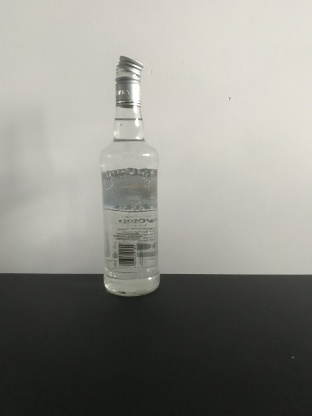nakretka: (113, 52, 144, 108)
